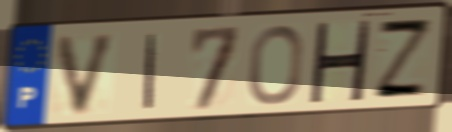7: (188, 23, 243, 113)
H: (306, 20, 373, 103)
I: (141, 32, 159, 112)
O: (246, 22, 306, 108)
V: (54, 29, 121, 118)
Z: (370, 18, 437, 100)
